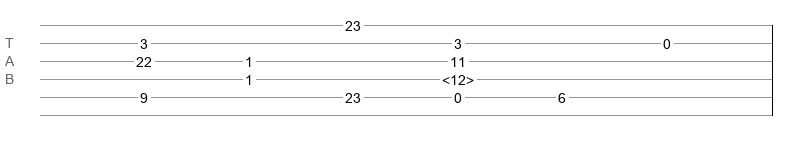0: (454, 90, 462, 100), (663, 36, 671, 46)
1: (245, 72, 253, 82), (245, 54, 253, 64)
11: (450, 54, 466, 64)
22: (136, 54, 152, 64)
23: (345, 90, 361, 100), (345, 18, 361, 28)
3: (140, 36, 148, 46), (454, 36, 462, 46)
6: (558, 90, 566, 100)
9: (140, 90, 148, 100)
harmonic: (442, 72, 474, 82)
